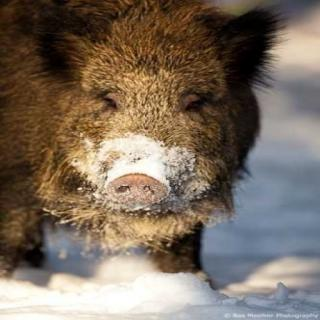Pig: (0, 0, 292, 316)
